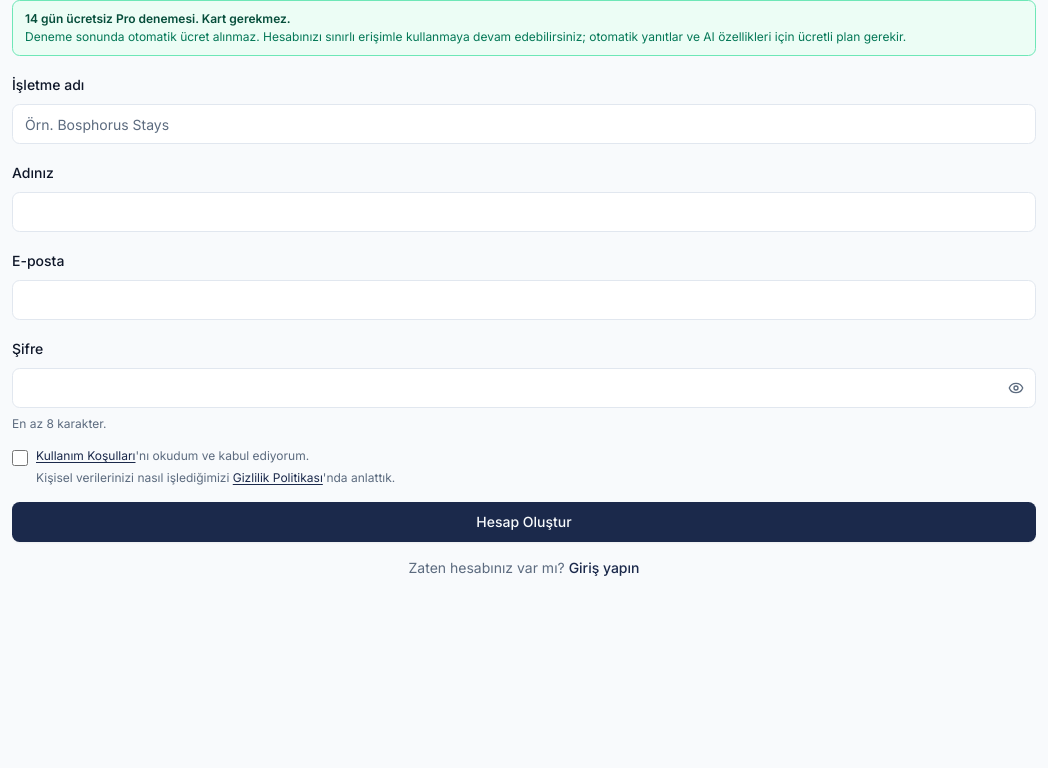
Test: Kayıt formu — alan hataları kontrole PROGRAMATİK olarak bağlı › form-bazlı gönderim hatası DUYURULUR (role=alert)
In the field labelled "İşletme adı": (524,124) x1=12 y1=104 x2=1036 y2=144, type "Lale"
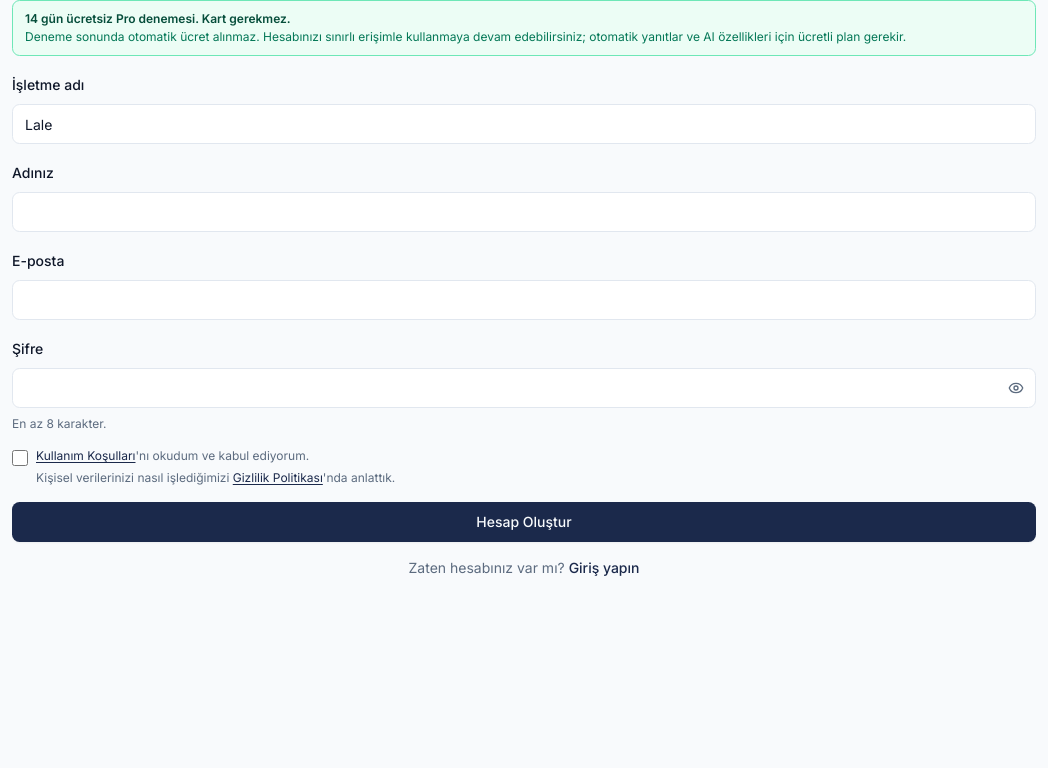
In the field labelled "Adınız": (524,212) x1=12 y1=192 x2=1036 y2=232, type "Musa"
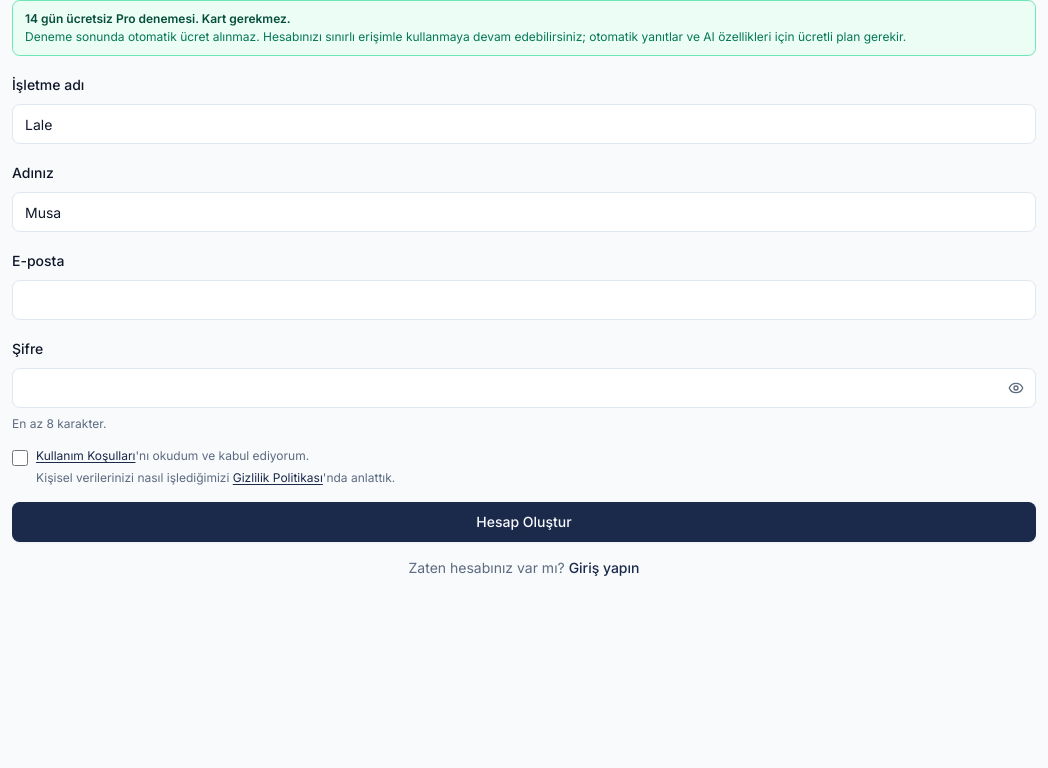
In the field labelled "E-posta": (524,300) x1=12 y1=280 x2=1036 y2=320, type "a@b.com"
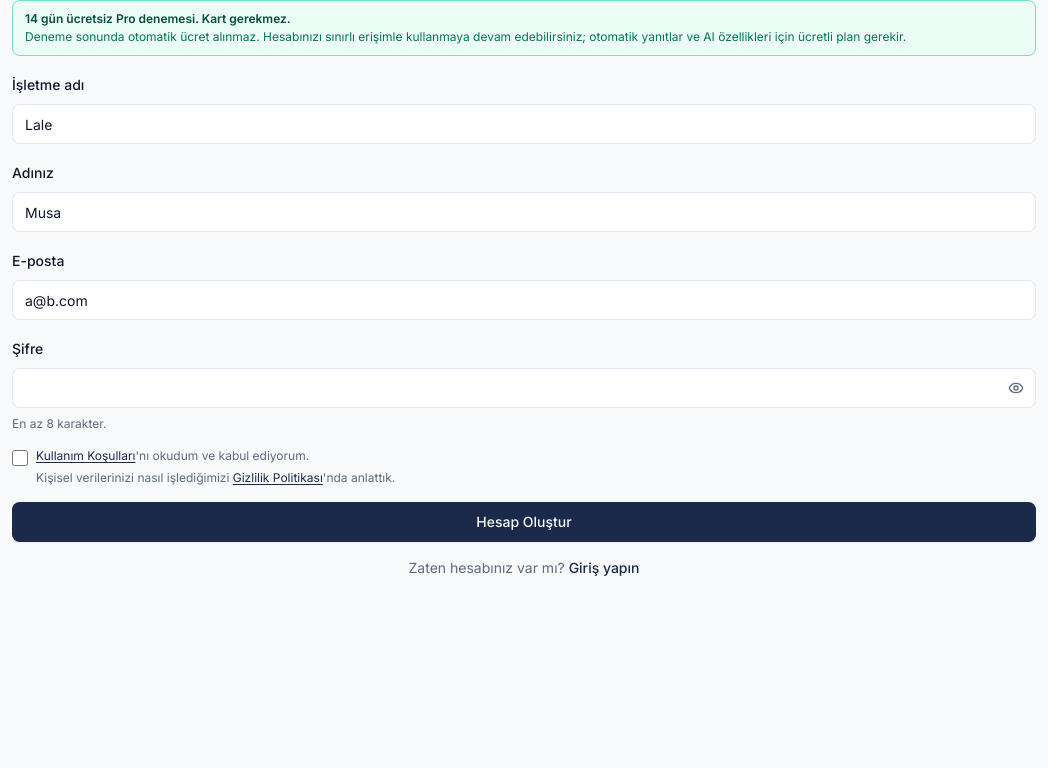
In the password field labelled "Şifre": (524,388) x1=12 y1=368 x2=1036 y2=408, type "12345678"
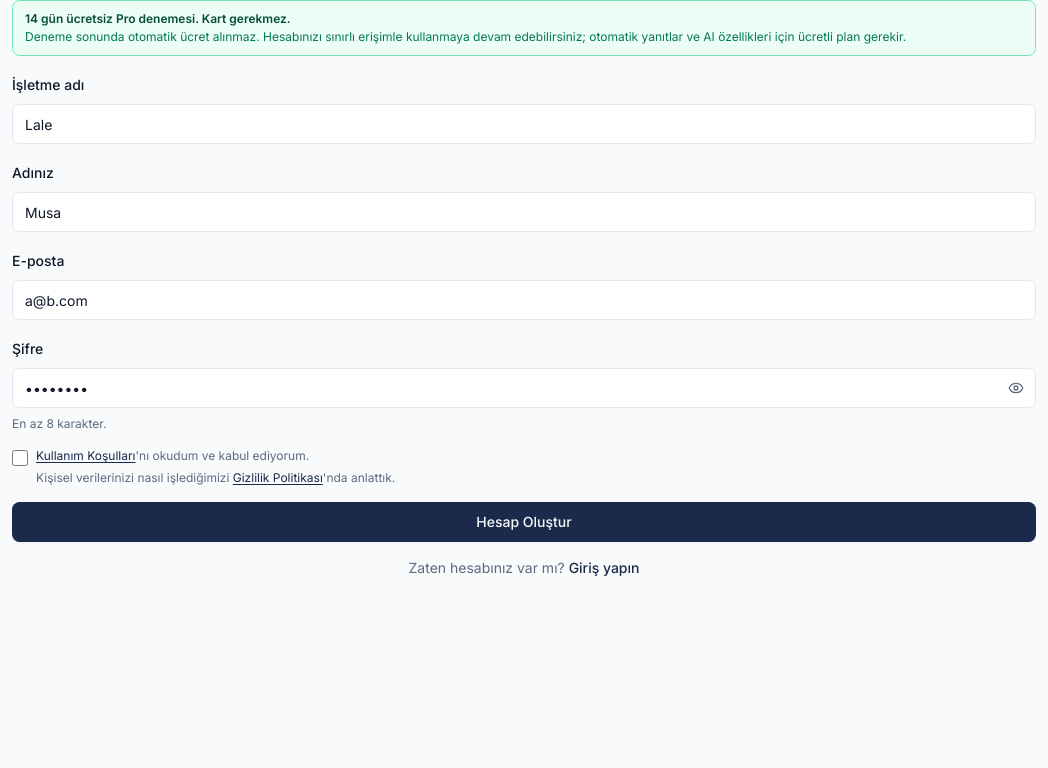
Click the checkbox: (20,458) x1=12 y1=450 x2=28 y2=466
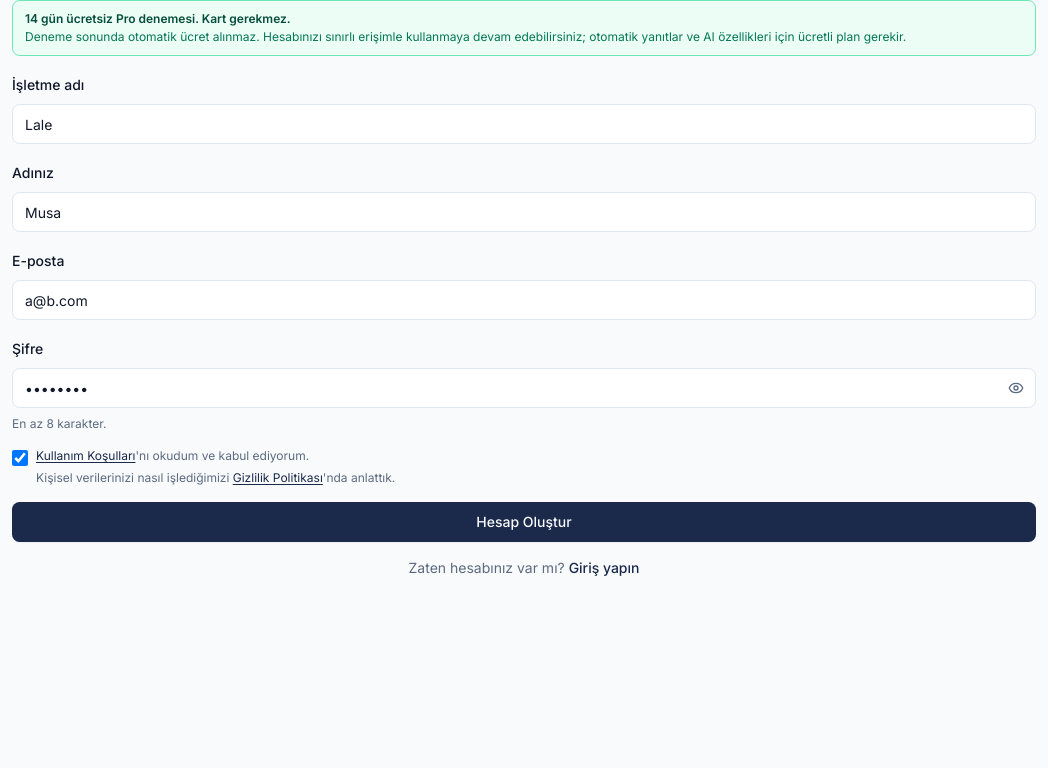
Submit the form named "Hesap Oluştur"
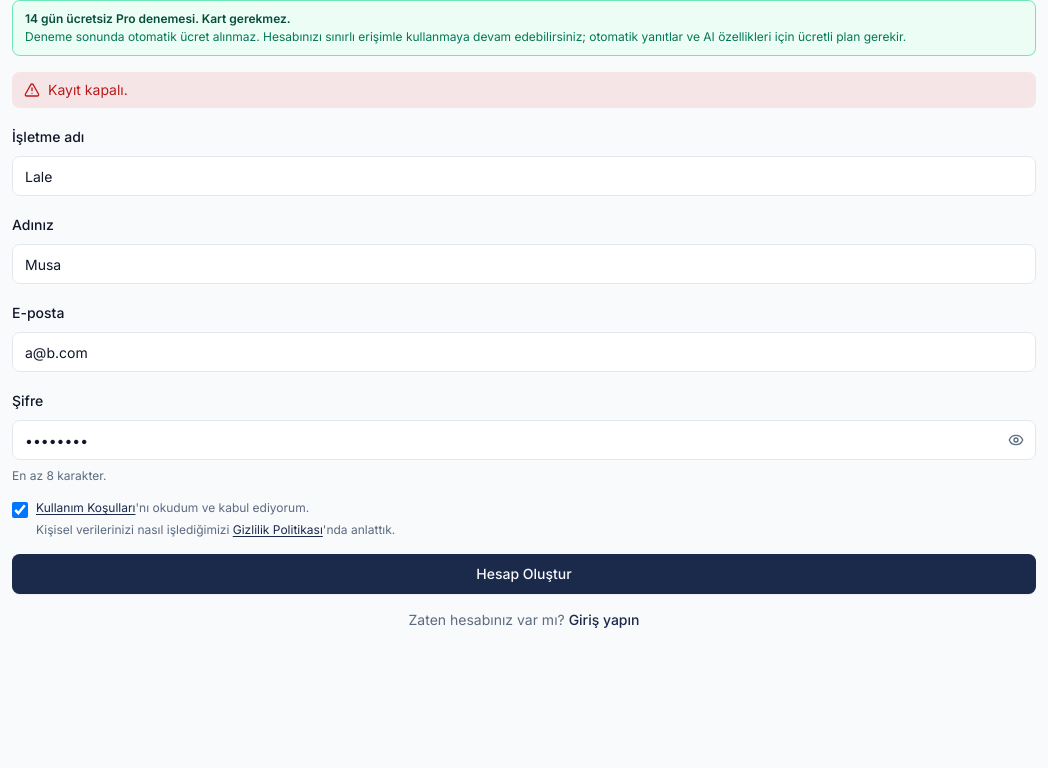
Expected: the message reads "Kayıt kapalı.", x1=48 y1=81 x2=128 y2=98
